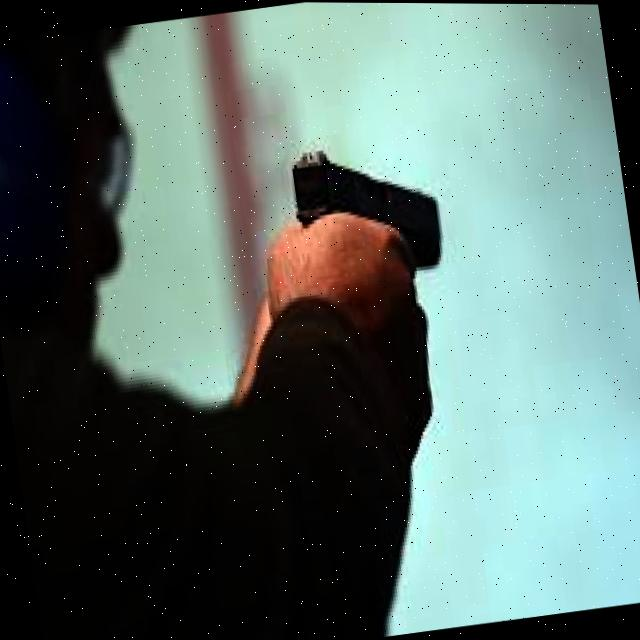pistol: (285, 126, 449, 288)
